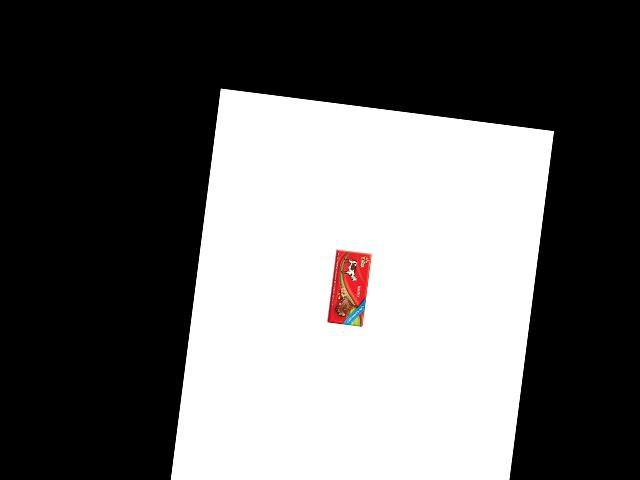chocolate: (328, 246, 372, 326)
